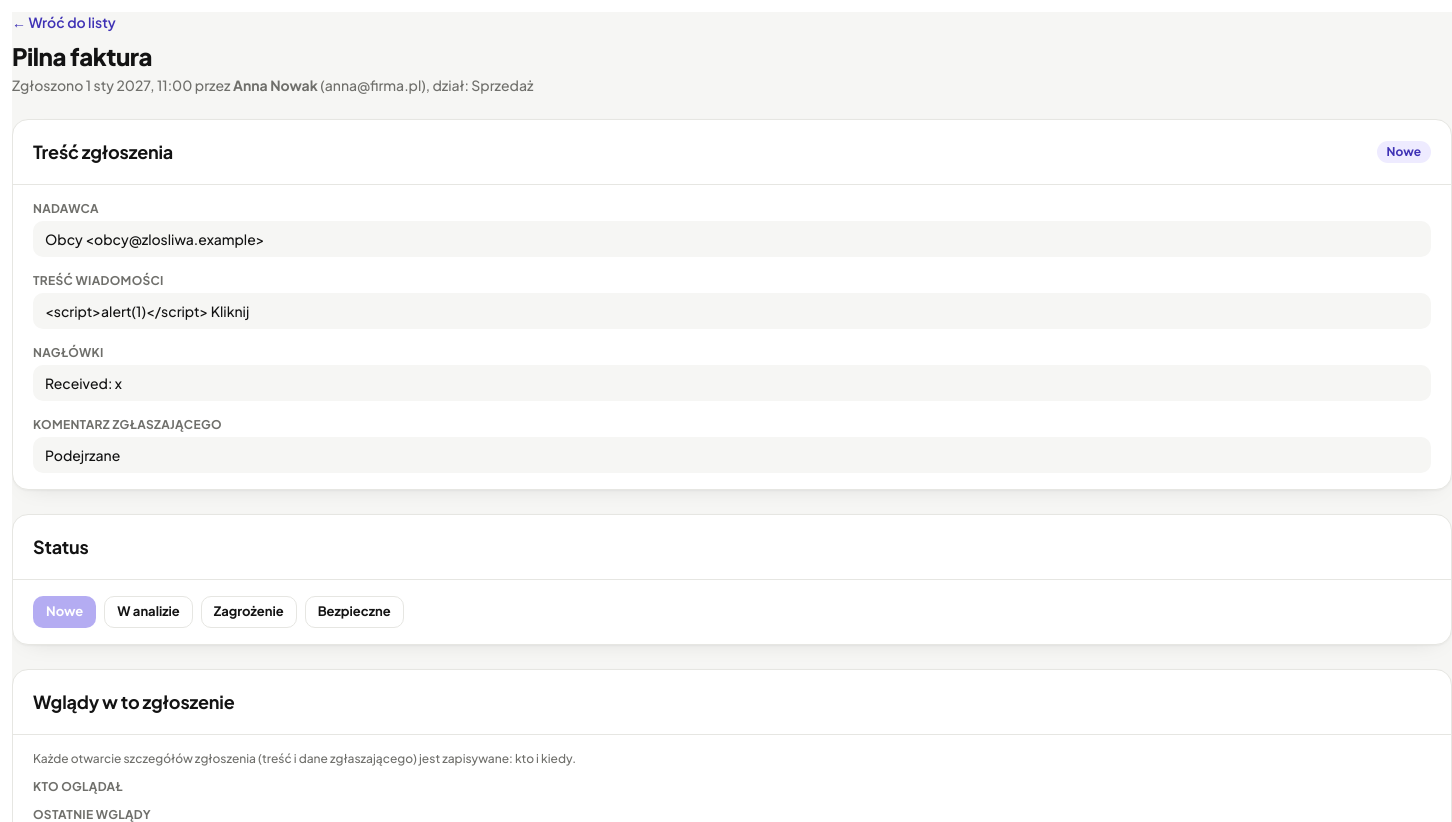
skrzynka zgłoszeń (web) › ReportDetail (ORG_ADMIN) › konflikt statusu (409): komunikat i ponowne pobranie aktualnego stanu
Check: the heading "Treść wiadomości" is shown, box top-left (33, 273), bottom-right (164, 288)
Click the button "Bezpieczne".
click(354, 612)  # box top-left (305, 596), bottom-right (404, 628)
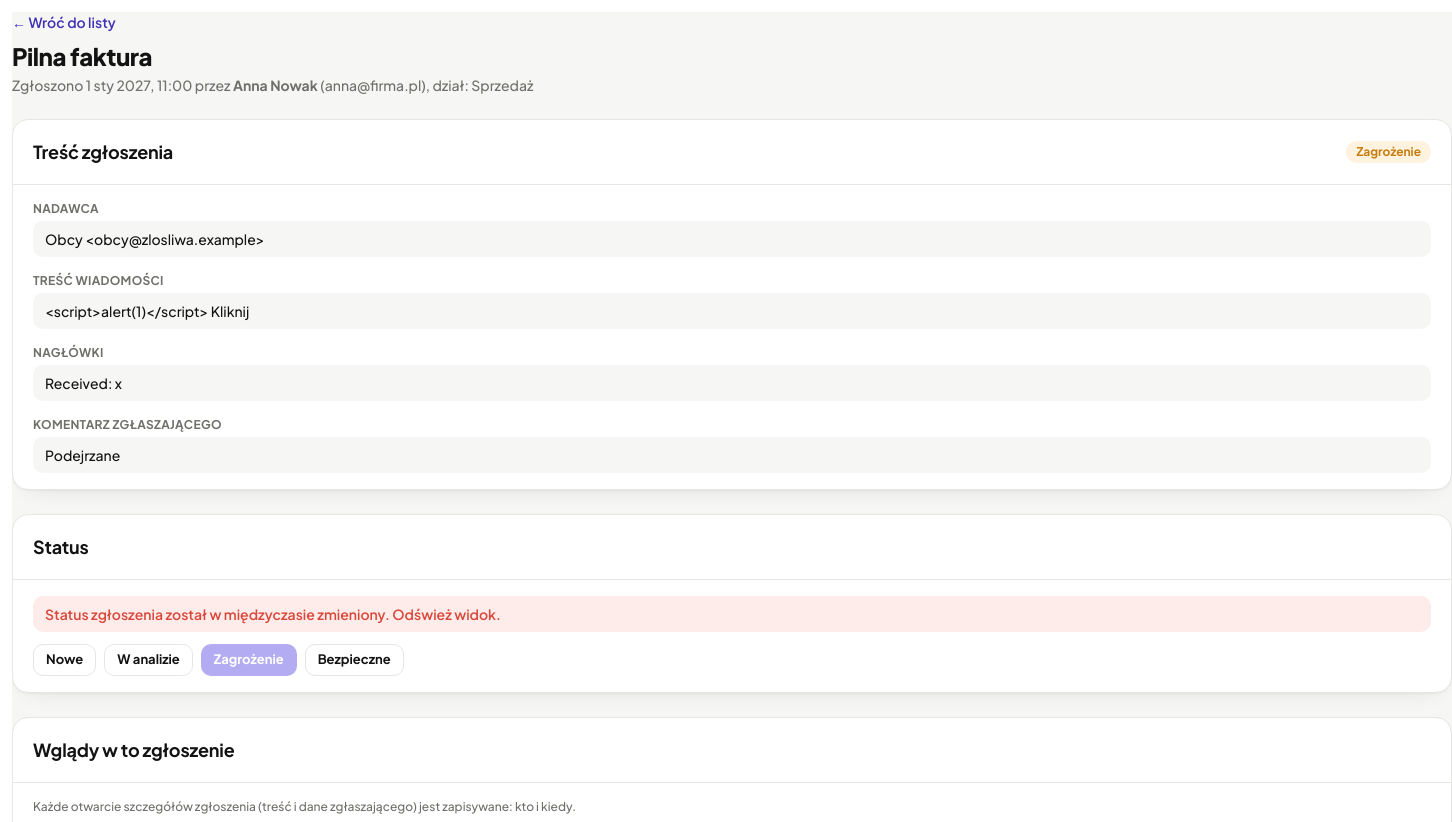
Check: the message shows "w międzyczasie zmieniony", box top-left (45, 605), bottom-right (501, 623)
Check: the button "Zagrożenie" is disabled, box top-left (201, 644), bottom-right (297, 676)
